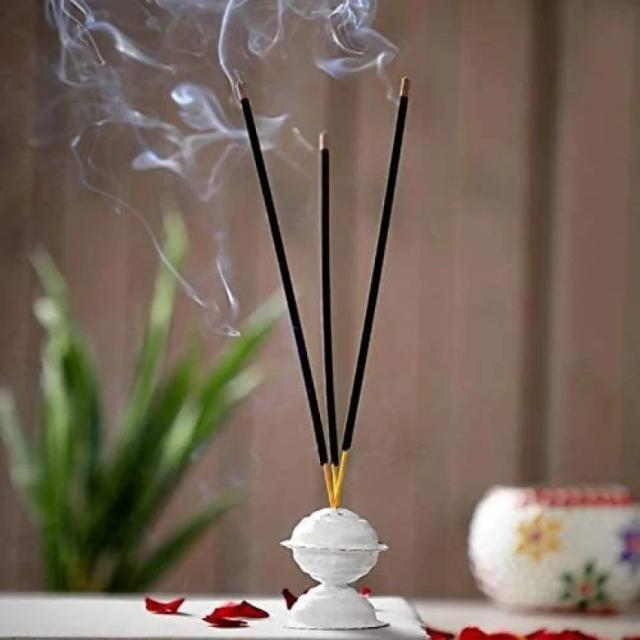Agarbatti: (228, 70, 309, 418), (343, 71, 414, 467), (314, 84, 342, 480)
